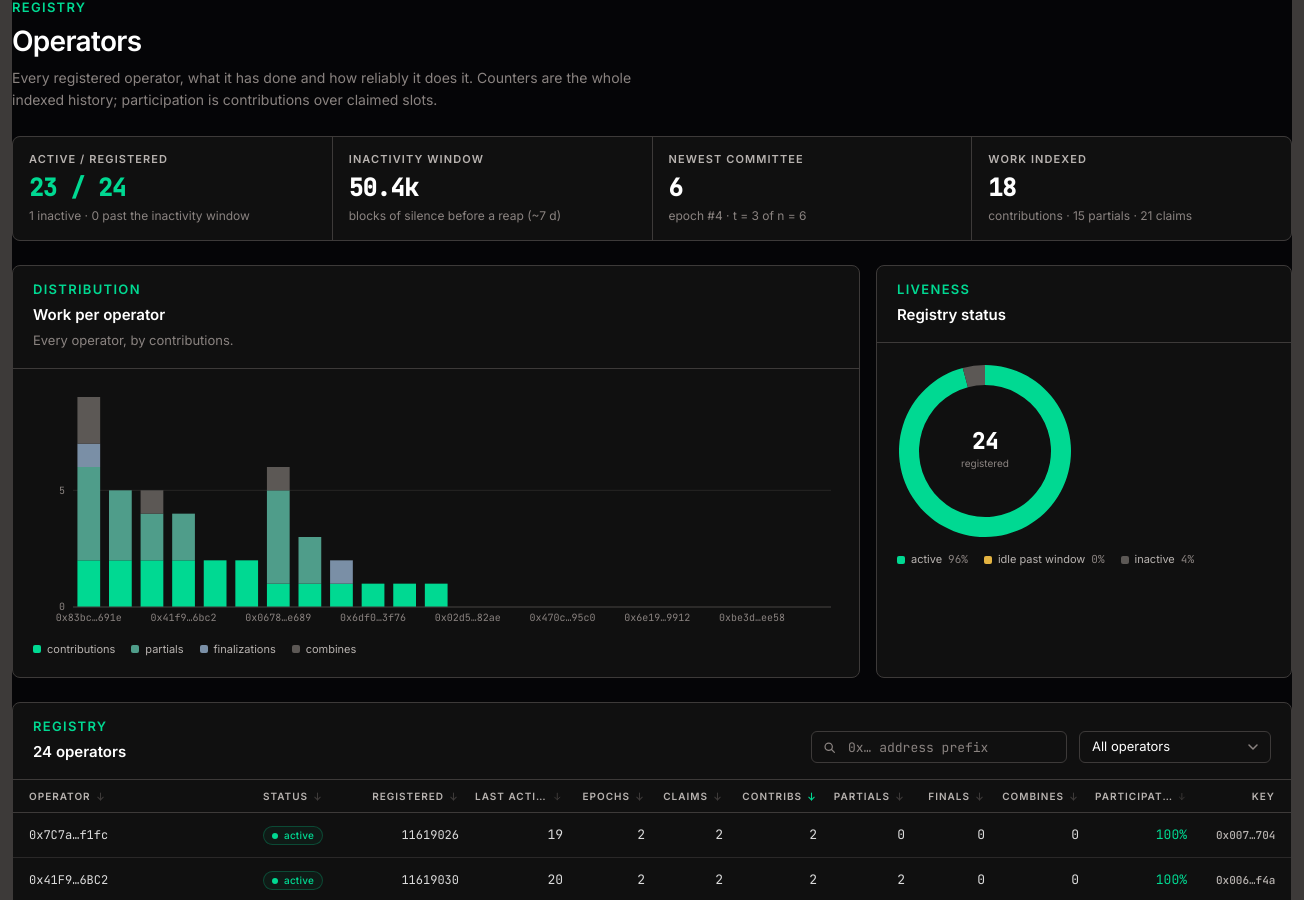
Test: OperatorsPage › says so when nothing matches, rather than showing an empty table
Type "0xdeadbeefcafe" into the field named "Search operators by address" at (939, 747), box [811, 731, 1067, 763]
(page scrolled)
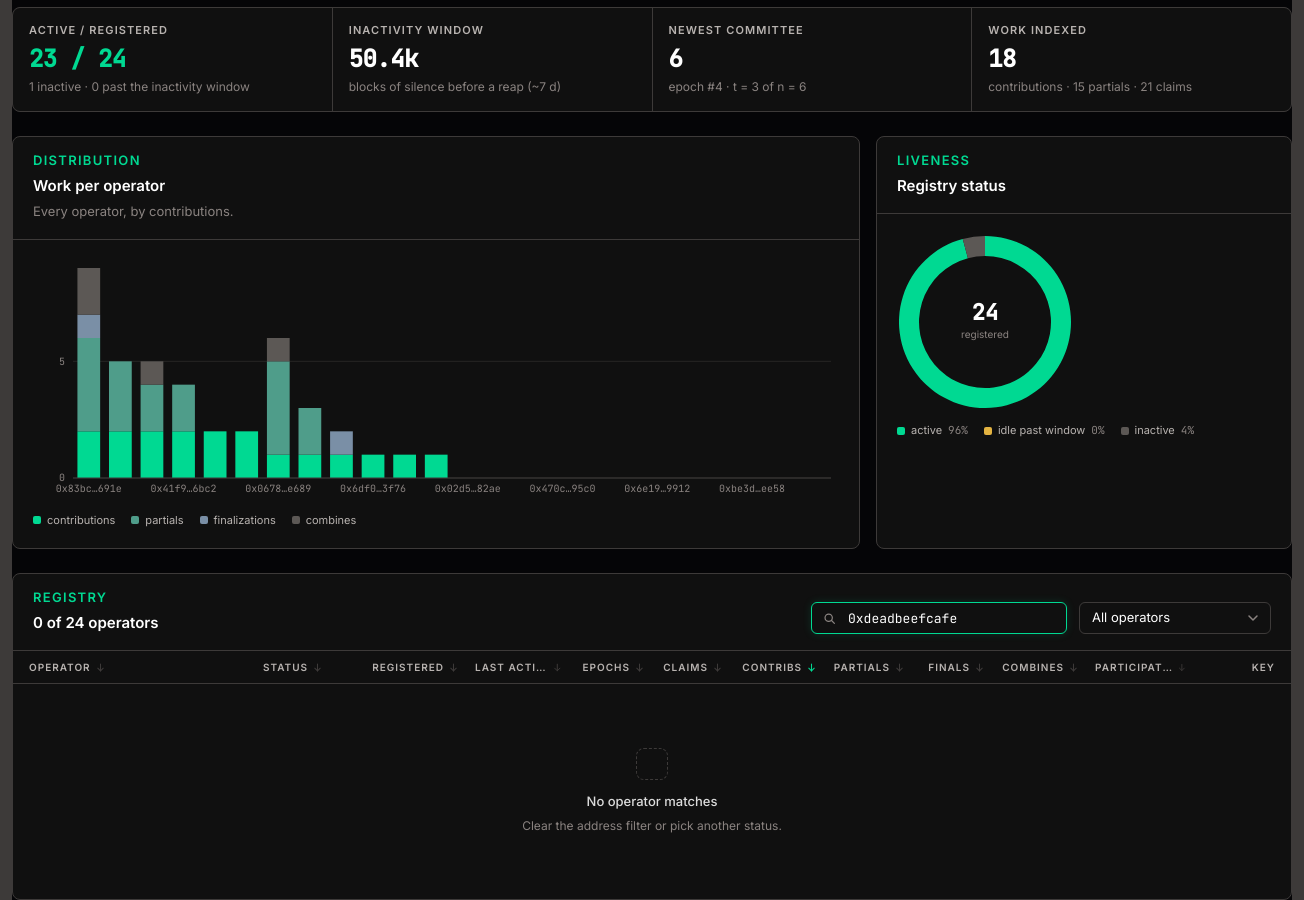
Expected: the heading "0 of 24 operators" is shown, [33, 612, 159, 634]
Expected: the text "No operator matches" is shown, [587, 792, 718, 812]
